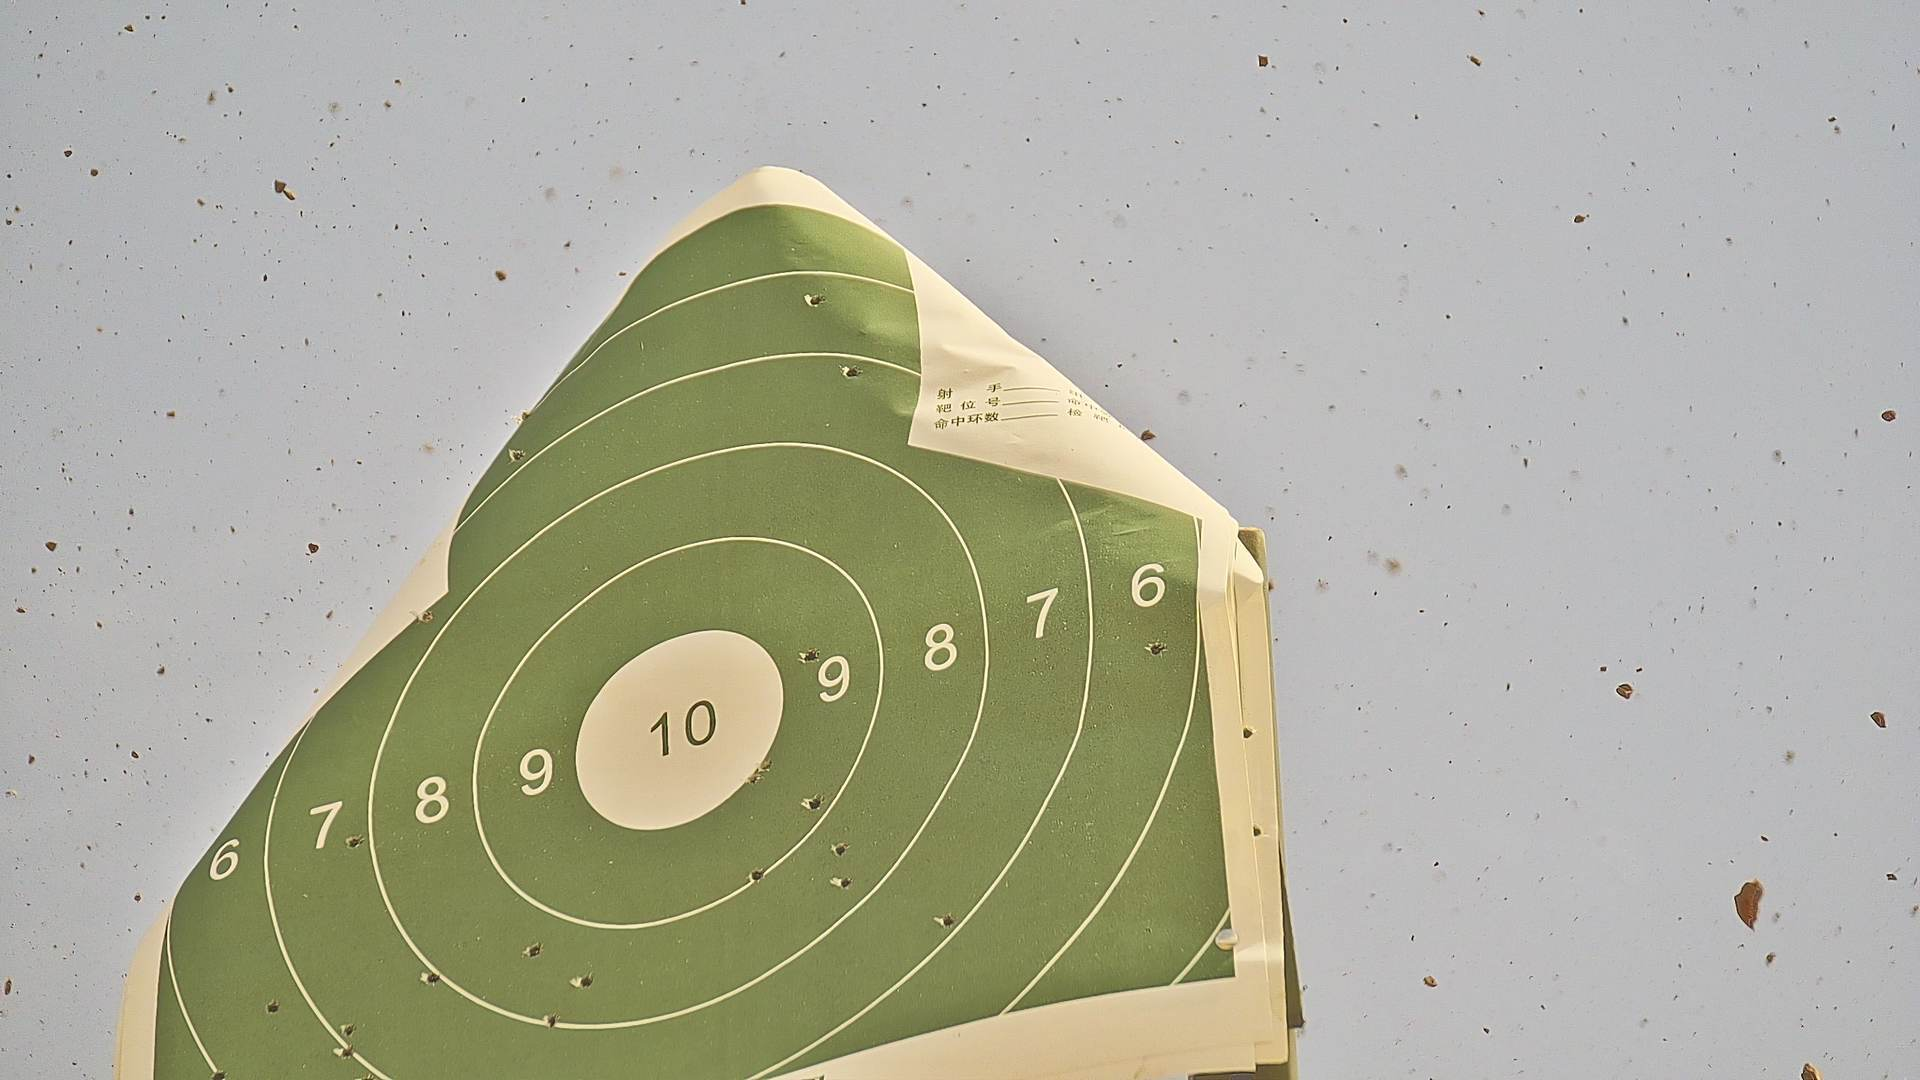hole: (804, 291, 823, 309), (802, 650, 819, 665), (339, 1044, 353, 1062), (343, 1022, 357, 1038), (1149, 642, 1166, 655), (347, 835, 364, 848), (266, 998, 280, 1015), (760, 757, 774, 771), (808, 794, 822, 810), (939, 913, 955, 926), (527, 942, 541, 957), (513, 448, 526, 463), (580, 973, 595, 986), (752, 866, 764, 882), (546, 1013, 556, 1030), (423, 972, 440, 982), (833, 841, 847, 855), (839, 876, 851, 890), (418, 611, 433, 622), (210, 1071, 228, 1079), (847, 364, 858, 376), (520, 409, 530, 422), (746, 769, 756, 783)
kernel: (673, 727, 679, 732)
target: (158, 204, 1241, 1080)
ten: (574, 625, 782, 833)
